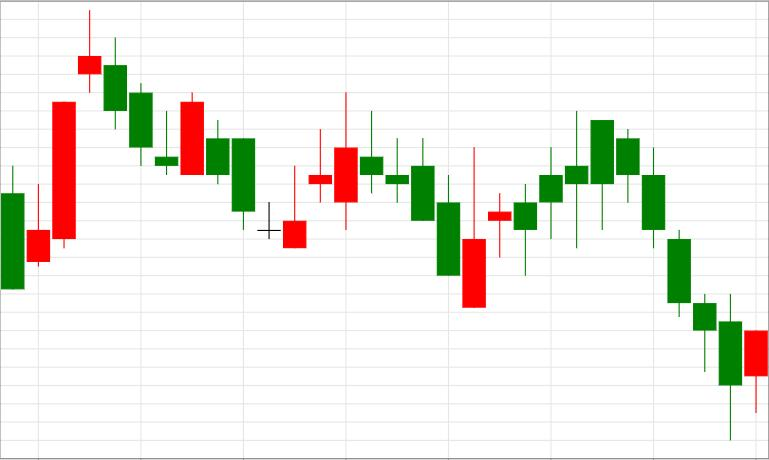bullish_engulfing_rise: (360, 110, 486, 308), (103, 37, 204, 176)
inverse_hammer_rise: (206, 118, 307, 249)
